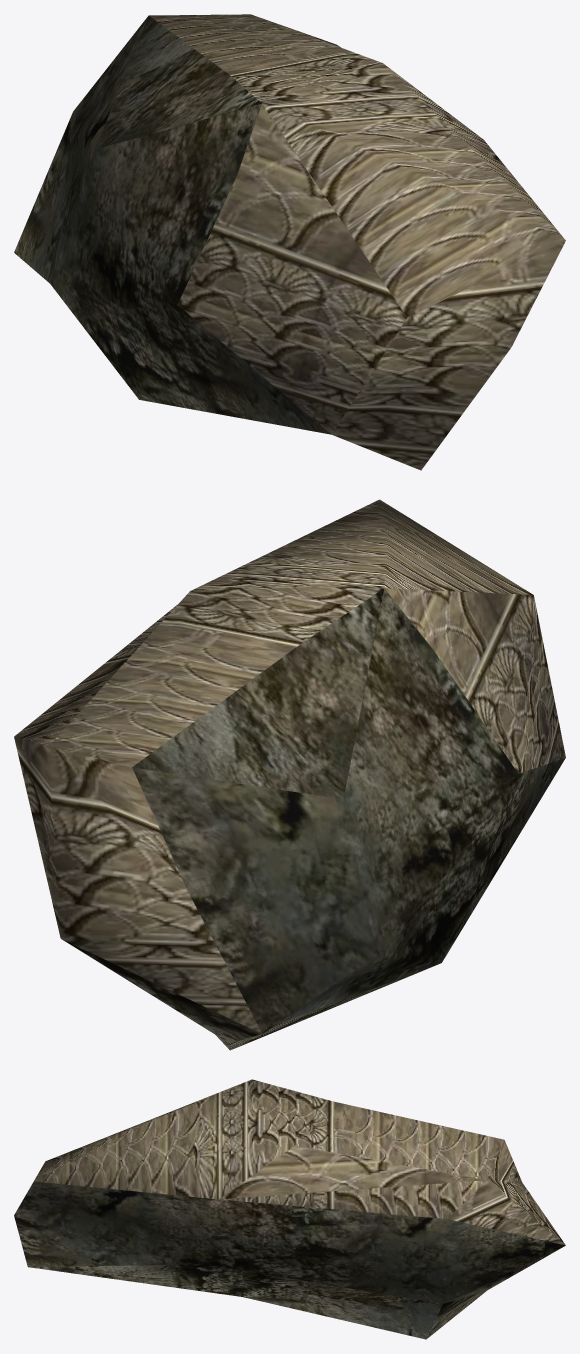
File: TPL_EVT_BRIDGESTONE_02.glb
The picture shows the model from 3 angles, top to bottom: view 1: azimuth 30°, elevation 25°; view 2: azimuth 150°, elevation 25°; view 3: azimuth 270°, elevation 25°; orthographic projection. The views are drawn at different scales.
Visible parts, largest first — view 1: Mesh; view 2: Mesh; view 3: Mesh.
Boxes of the visible parts, left/top/right/bottom form: Mesh: left=14, top=14, right=565, bottom=470; Mesh: left=14, top=499, right=565, bottom=1050; Mesh: left=14, top=1079, right=565, bottom=1339.
Bounding box in the file's own units: 4.24 × 4.48 × 8.9.
2 materials, 2 textured.
